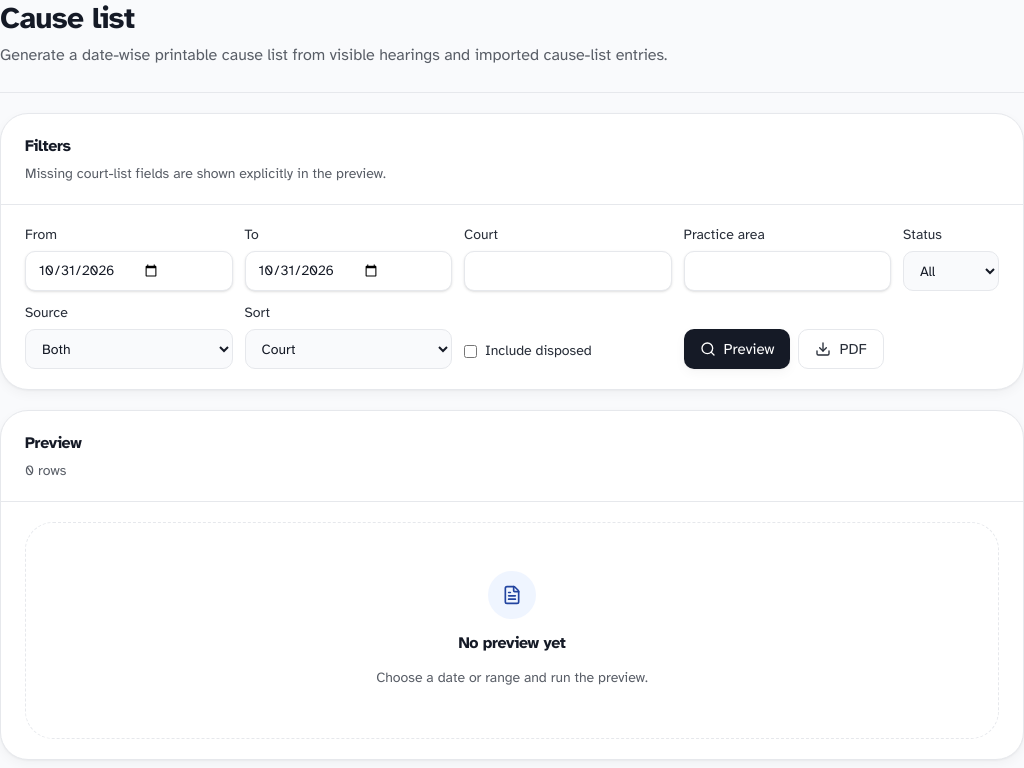
Test: CauseListPage › previews cause-list rows with explicit missing-field warnings
The width and height of the screenshot is (1024, 768).
Type "Delhi High Court" into the field labelled "Court".
click(568, 271); type("Delhi High Court")  # box [464,251,672,291]
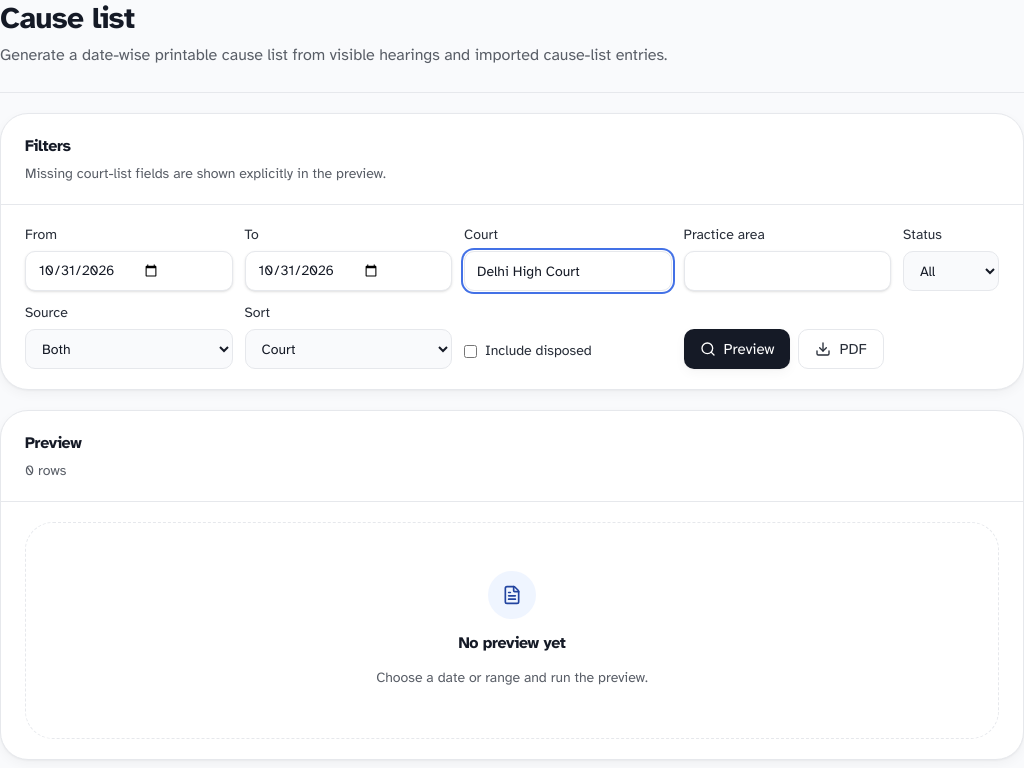
Click the button "Preview".
click(737, 349)  # box [684,329,790,369]
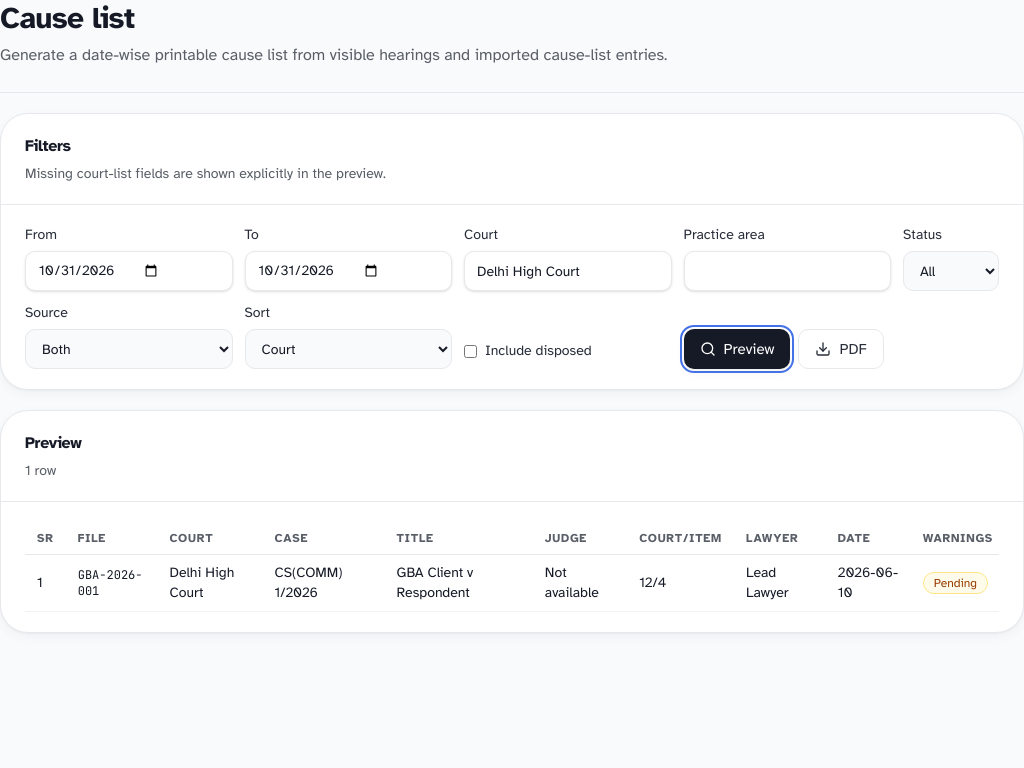
expect the text "GBA-2026-001" is shown: met, box [66,554,158,612]
expect the text "Not available" is shown: met, box [533,554,627,612]
expect the text "1 row" is shown: met, box [25,462,56,479]
